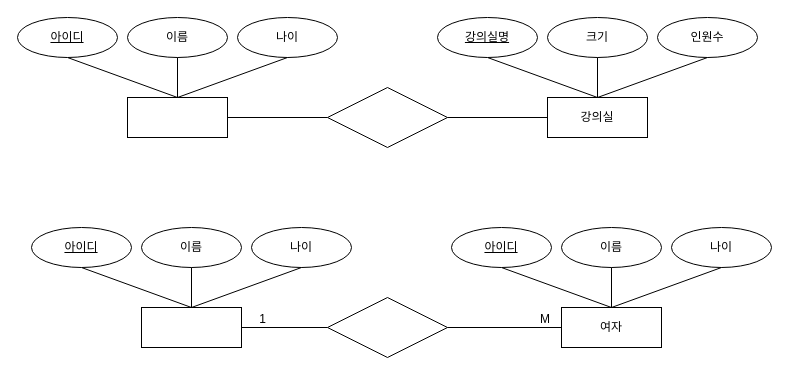
Some shapes in this 789 by 375 pixel diagram are drawn without their labels. The shapes that lost their labels are listed below. From the top down, each one's centre as x and y in pixels, then its label:
At point 177,117: "학생".
At point 387,117: "학급".
At point 191,327: "남자".
At point 387,327: "커플".
